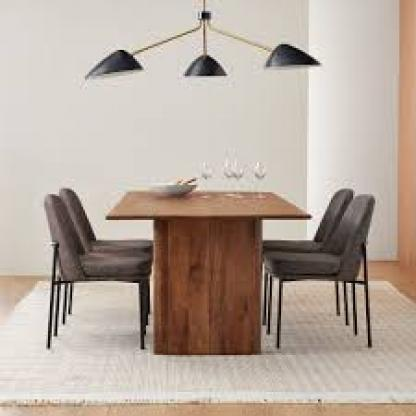Dining Table: (22, 146, 404, 357)
